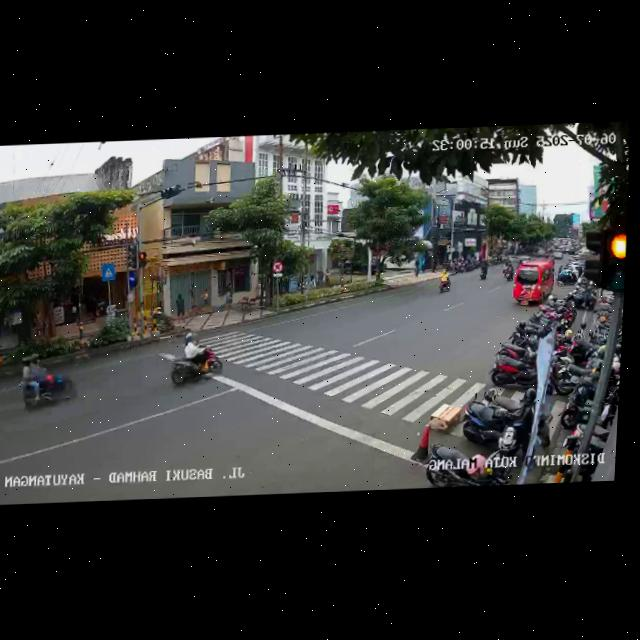car: (511, 257, 554, 306)
motorcycle: (16, 355, 80, 411), (166, 335, 222, 388), (437, 268, 452, 294), (478, 257, 490, 281), (502, 258, 514, 280)
